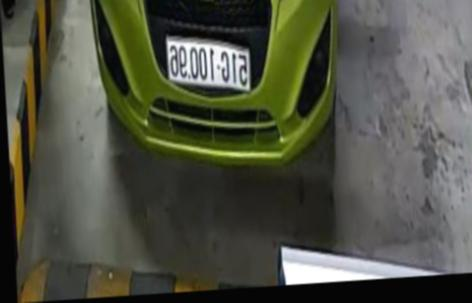License_Plate: (157, 33, 257, 92)
